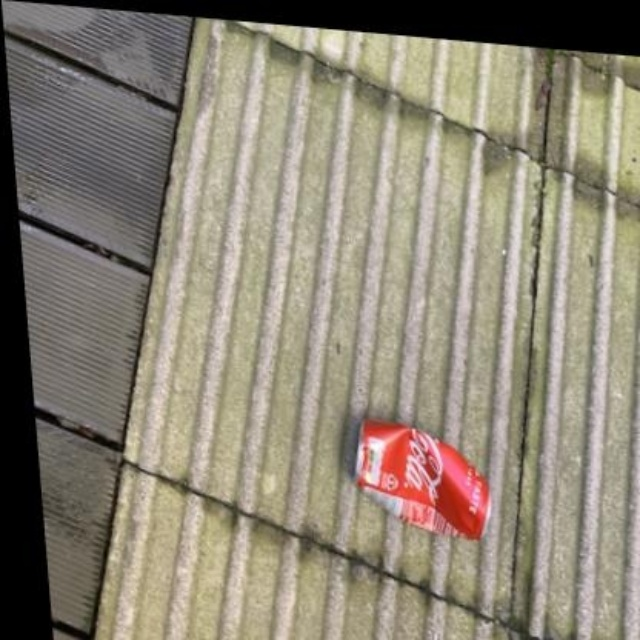trash: (355, 418, 489, 538)
